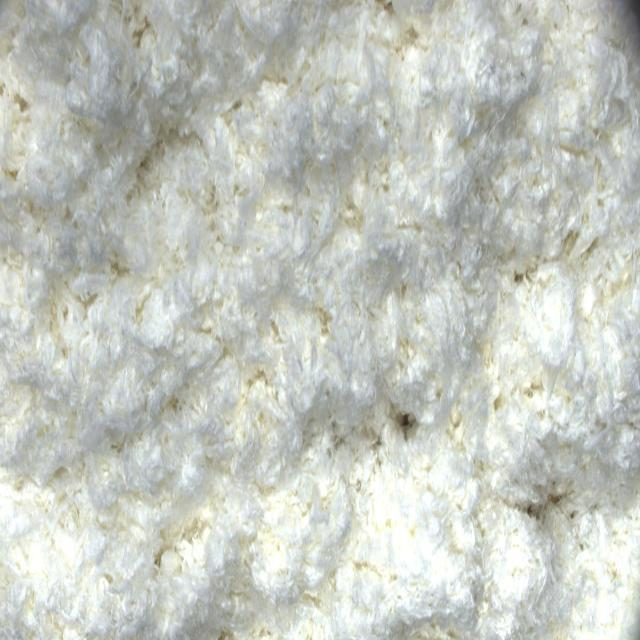dust: (399, 406, 420, 455)
